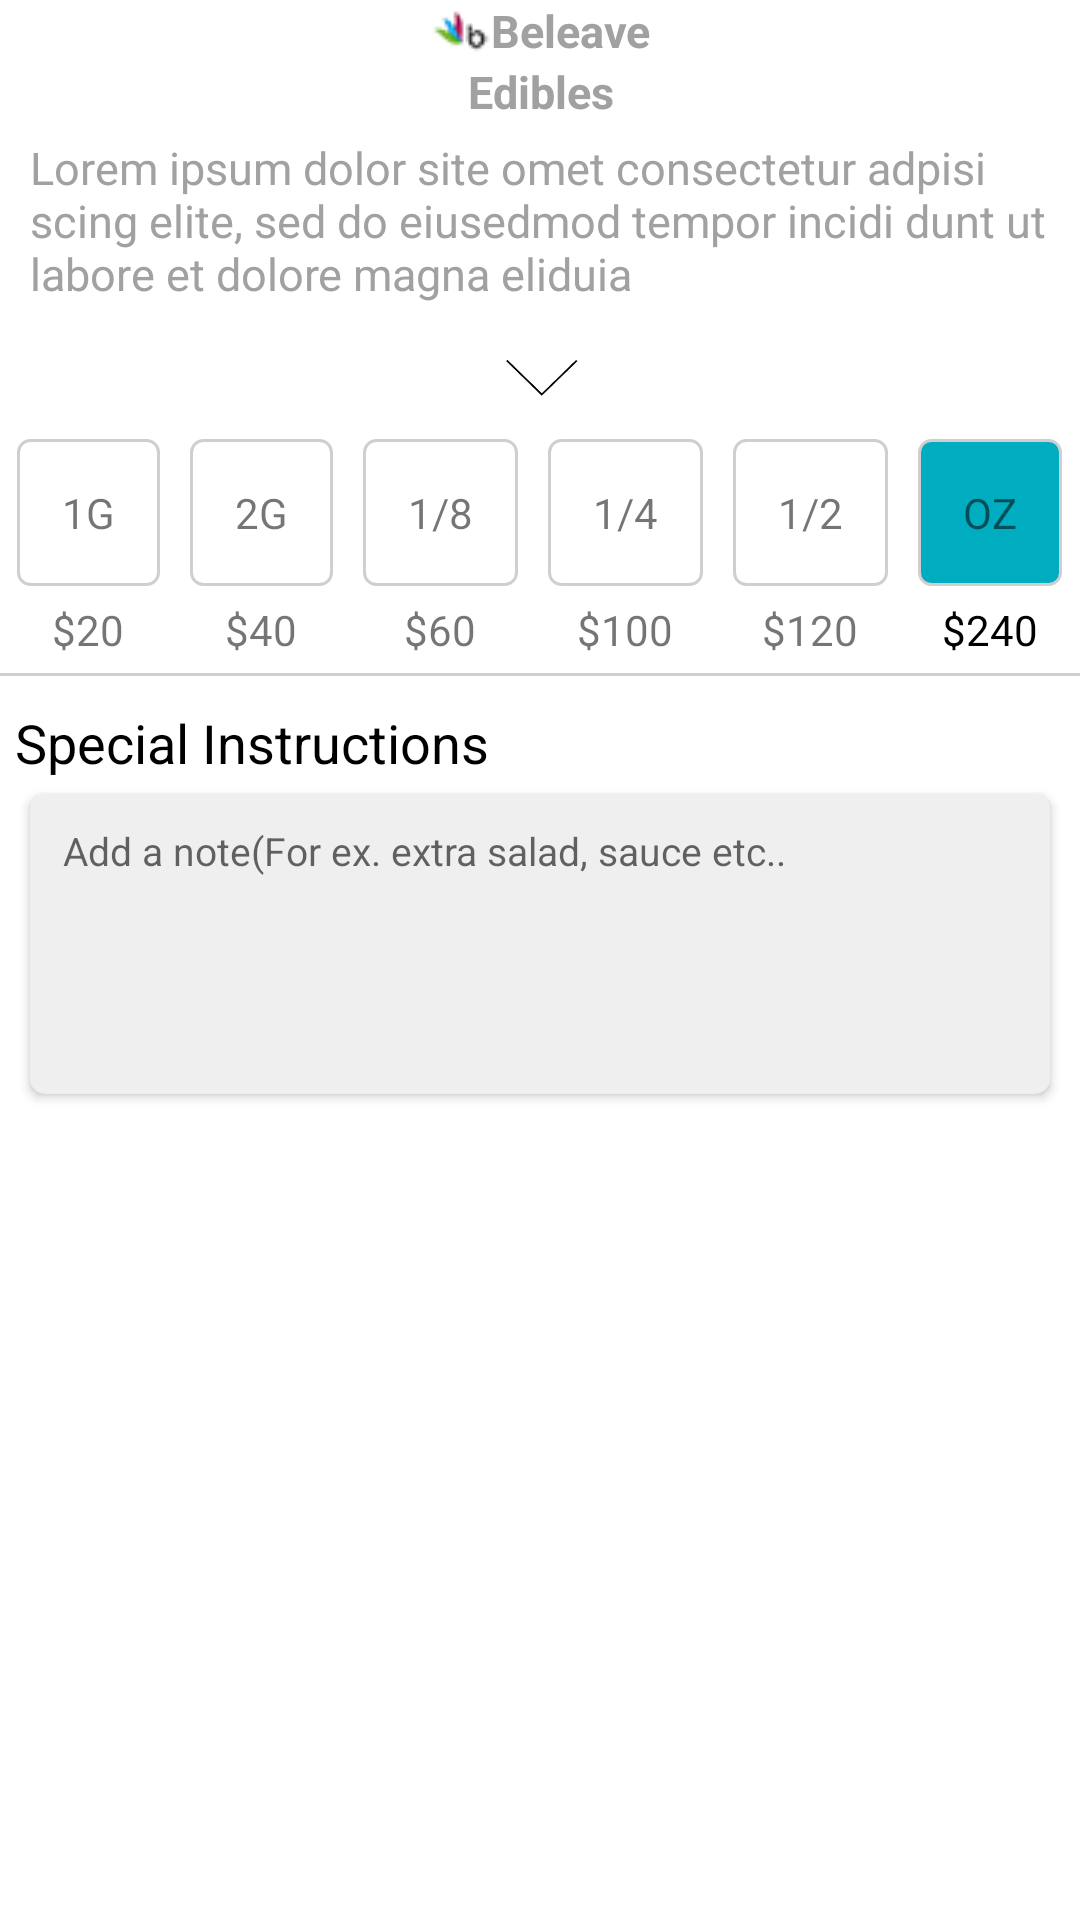

Named icons in this screenshot (1080w x 1920h) and their bounding boxes, (x1=x1, y1=y1, x2=x2, y2=y2):
downarrow: (x1=506, y1=360, x2=578, y2=396)
